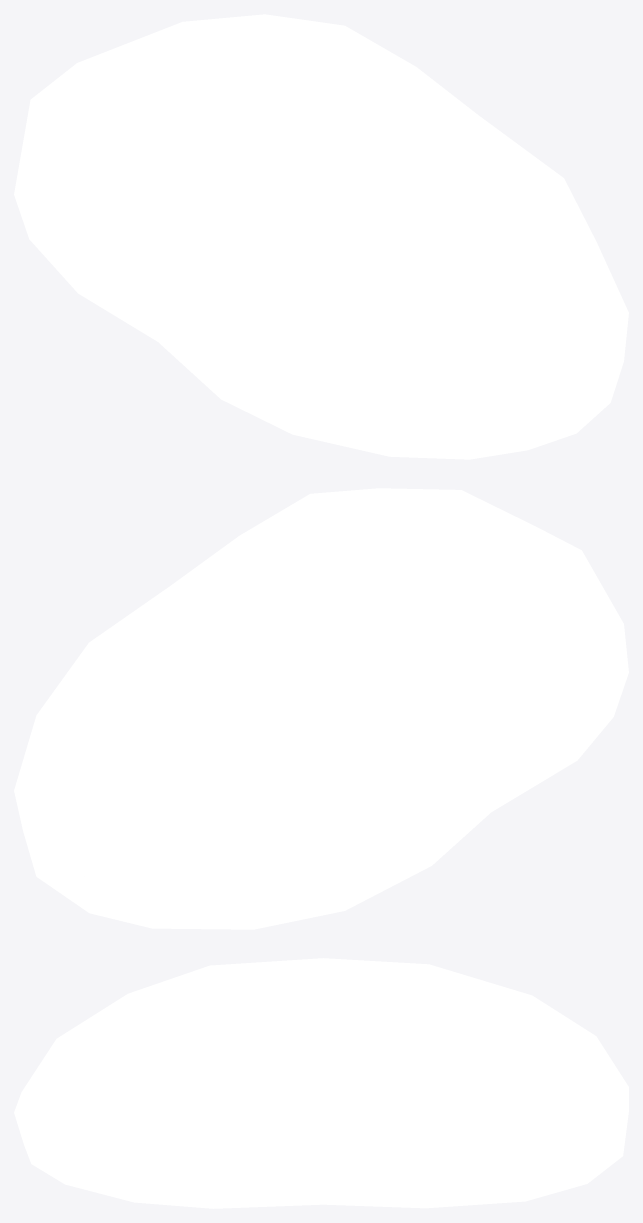
The model's file is souris-v1.glb.
3 views of the same model, one above another, from view 1: azimuth 30°, elevation 25°; view 2: azimuth 150°, elevation 25°; view 3: azimuth 270°, elevation 25° (orthographic). The views are drawn at different scales.
Parts seen in each view (by area): view 1: lowpoly.obj; view 2: lowpoly.obj; view 3: lowpoly.obj.
Boxes of the visible parts, <box> form: lowpoly.obj: <box>14,14,628,459</box>; lowpoly.obj: <box>14,488,628,929</box>; lowpoly.obj: <box>14,958,628,1208</box>.
Bounding box in the file's own units: 0.0676 × 0.04 × 0.1286.
1 material, 1 textured.
